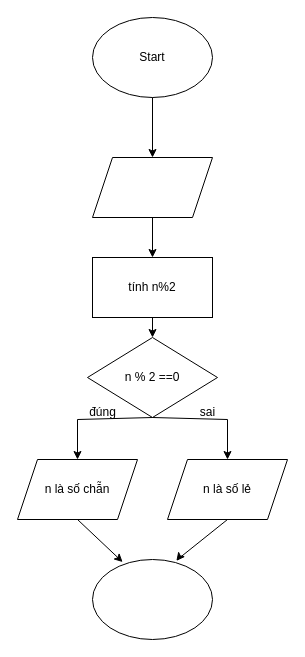
Some shapes in this 305 by 657 pixel diagram are drawn without their labels. The centre of each missing label's shape, as x and y in pixels:
"kết thúc" belongs at [152,599].
"Nhập a, b" belongs at [152,187].
